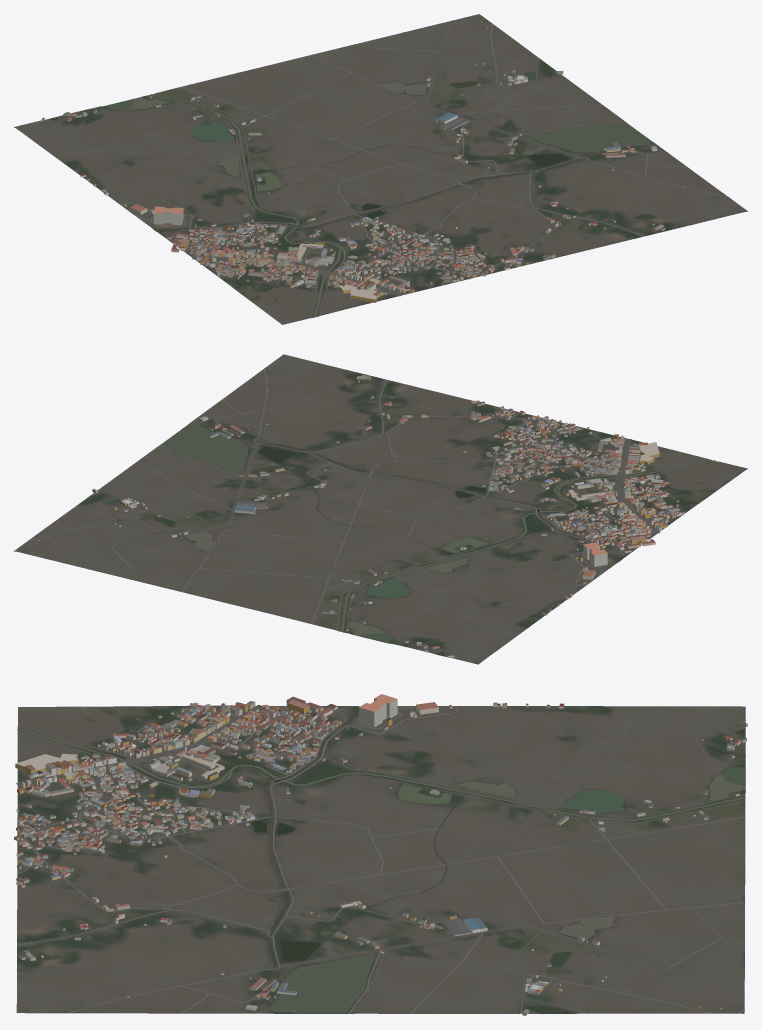
3 renders of one model, top to bottom at view 1: azimuth 30°, elevation 25°; view 2: azimuth 150°, elevation 25°; view 3: azimuth 270°, elevation 25°, orthographic. The views are drawn at different scales.
Visible parts, largest first — view 1: ground, buildings, roads, water; view 2: ground, buildings, roads, water; view 3: ground, buildings, water, roads.
Part boxes in pixels (left/top/right/bottom): ground: left=14, top=14, right=747, bottom=324; buildings: left=41, top=20, right=683, bottom=302; roads: left=35, top=15, right=728, bottom=318; water: left=50, top=72, right=649, bottom=316; ground: left=14, top=354, right=747, bottom=664; buildings: left=28, top=374, right=684, bottom=657; roads: left=16, top=368, right=722, bottom=659; water: left=104, top=424, right=715, bottom=655; ground: left=16, top=705, right=745, bottom=1013; buildings: left=14, top=694, right=747, bottom=1015; water: left=17, top=710, right=745, bottom=1013; roads: left=16, top=705, right=745, bottom=1013.
Size of the model in its own units: 1436 by 39.68 by 1414.
